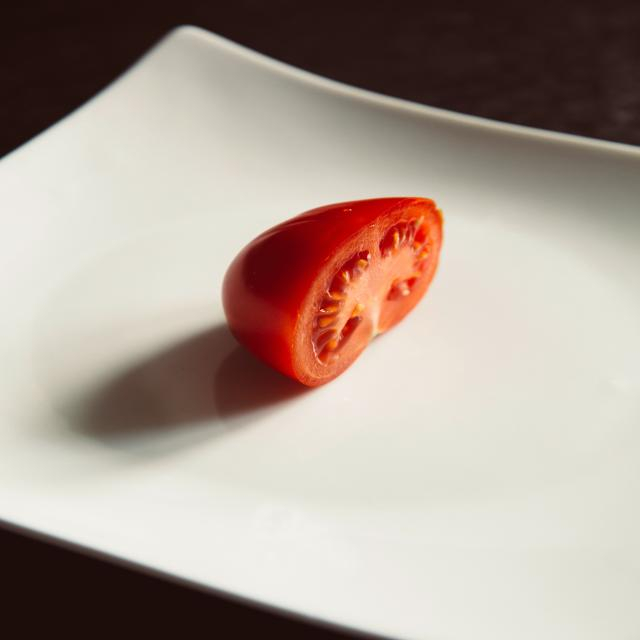Tomato: (218, 198, 456, 389)
